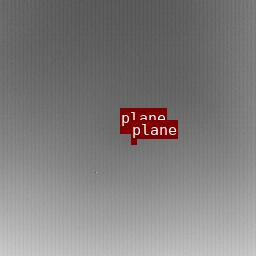plane: (120, 127, 132, 133), (131, 139, 136, 143)
